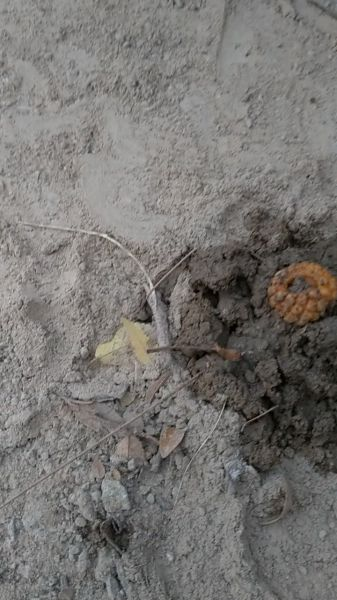eggs: (268, 253, 337, 331)
